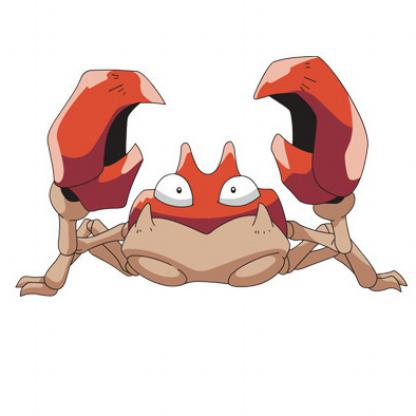Krabby: (31, 52, 413, 314)
